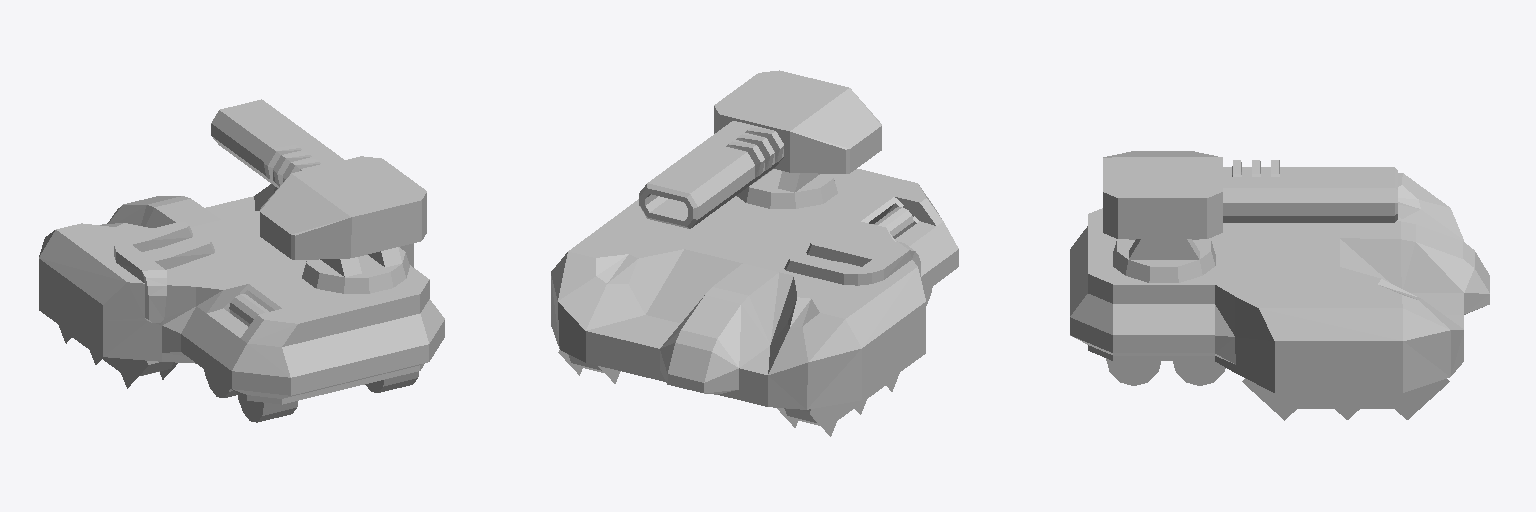
Rendered from tank4.83- UV-named (final61).obj.
3 views of the same model, side by side, from view 1: azimuth 30°, elevation 25°; view 2: azimuth 150°, elevation 25°; view 3: azimuth 270°, elevation 25° (orthographic).
Visible parts, largest first — view 1: EnergyCell; view 2: EnergyCell; view 3: EnergyCell.
Boxes of the visible parts, x1,y1,x2,y2 form: EnergyCell: [39, 99, 444, 422]; EnergyCell: [551, 70, 958, 436]; EnergyCell: [1070, 151, 1489, 420].
Bounding box in the file's own units: 2.95 × 1.88 × 3.45.